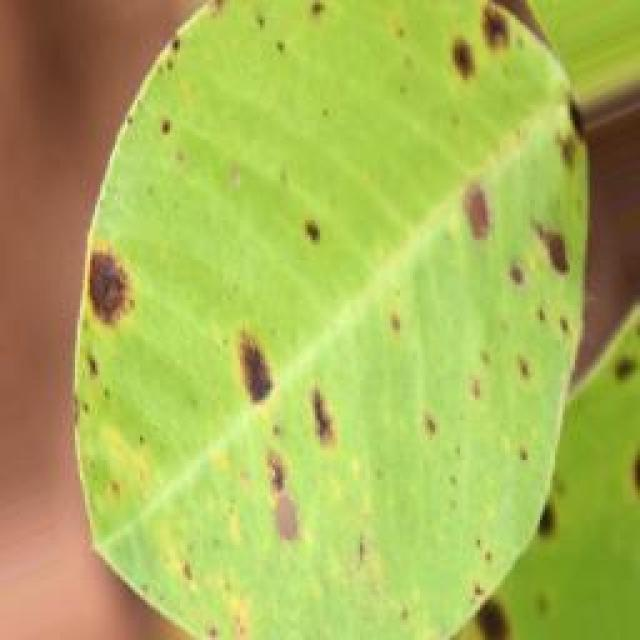Yellowish: (53, 0, 640, 612)
